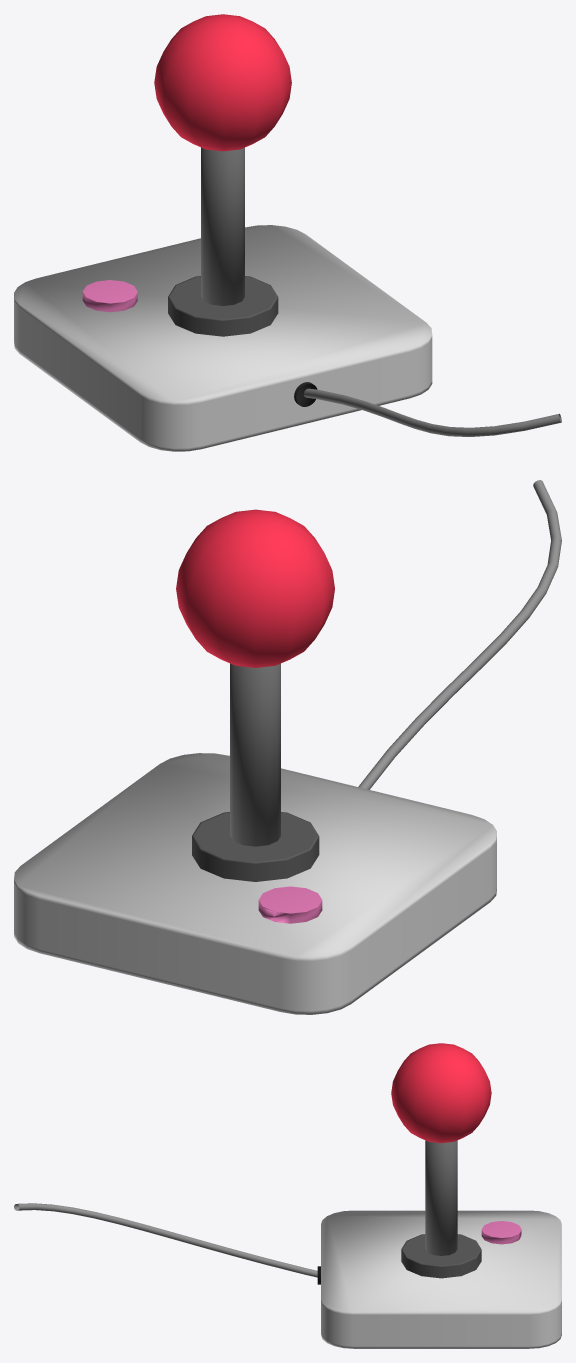
Rendered from new_joystick.glb.
3 renders of one model, top to bottom at view 1: azimuth 30°, elevation 25°; view 2: azimuth 150°, elevation 25°; view 3: azimuth 270°, elevation 25°, orthographic. The views are drawn at different scales.
Visible parts, largest first — view 1: Cube, Sphere, Neck, Cylinder.001, BézierCurve, Button; view 2: Cube, Sphere, Neck, Cylinder.001, BézierCurve, Button; view 3: Cube, Sphere, Neck, Cylinder.001, BézierCurve, Button.
Part boxes in pixels (x1,y1,x2,y2): Cube: (14, 225, 432, 451); Sphere: (154, 14, 291, 151); Neck: (201, 147, 244, 305); Cylinder.001: (168, 276, 278, 336); BézierCurve: (303, 388, 561, 436); Button: (82, 280, 137, 312); Cube: (14, 753, 496, 1014); Sphere: (176, 509, 334, 667); Neck: (230, 663, 280, 846); Cylinder.001: (192, 812, 319, 881); BézierCurve: (358, 480, 561, 789); Button: (258, 886, 322, 923); Cube: (321, 1210, 561, 1348); Sphere: (391, 1043, 491, 1143); Neck: (425, 1140, 457, 1255); Cylinder.001: (401, 1234, 481, 1278); BézierCurve: (14, 1203, 317, 1277); Button: (481, 1221, 521, 1244).
Bounding box in the file's own units: 6 × 6.87 × 13.64.
